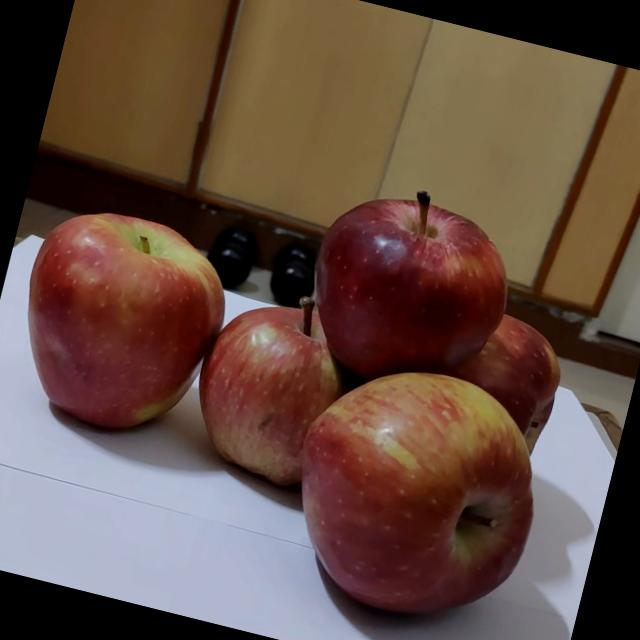apple: (267, 349, 569, 640), (0, 172, 261, 477), (276, 155, 540, 421), (164, 276, 387, 513), (367, 287, 588, 469)
